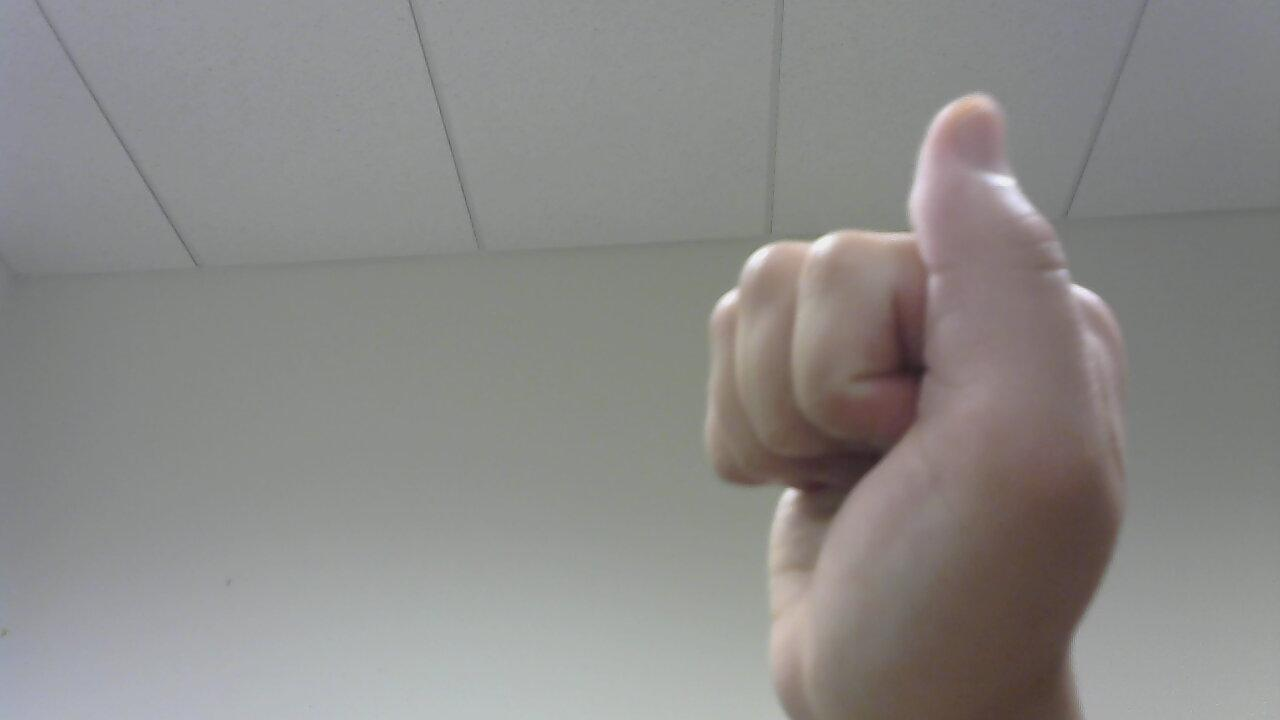fist: (681, 99, 1144, 718)
